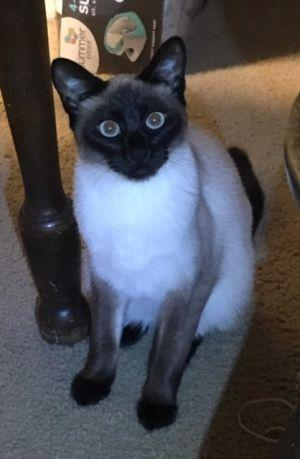siamese: (32, 18, 216, 213)
